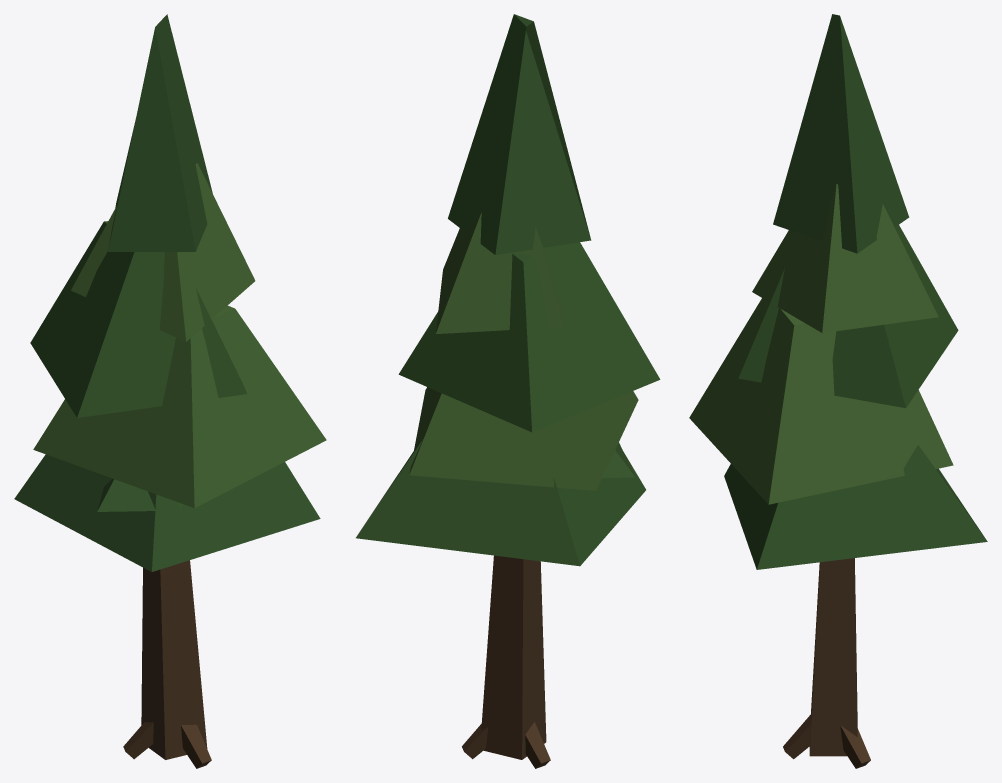
The model's file is tree_pine_b.glb.
3 renders of one model, left to right at view 1: azimuth 30°, elevation 25°; view 2: azimuth 150°, elevation 25°; view 3: azimuth 270°, elevation 25°, orthographic.
Visible parts, largest first — view 1: skirt.001, skirt.002, skirt, skirt.004, bole, skirt.003, spur, root.002, root.001; view 2: skirt.002, skirt.004, skirt, skirt.001, bole, skirt.003, root.001, spur, root; view 3: skirt.001, skirt, skirt.004, skirt.003, skirt.002, bole, root, root.002.
Part boxes in pixels (box(x1,y1,x2,y2)): skirt.001: box(33, 305, 326, 508); skirt.002: box(30, 221, 247, 417); skirt: box(14, 454, 320, 571); skirt.004: box(108, 14, 212, 251); bole: box(141, 560, 207, 759); skirt.003: box(71, 163, 255, 341); spur: box(97, 479, 183, 511); root.002: box(181, 724, 211, 768); root.001: box(123, 722, 153, 759); skirt.002: box(398, 242, 660, 432); skirt.004: box(448, 14, 591, 255); skirt: box(356, 439, 645, 566); skirt.001: box(409, 387, 638, 490); bole: box(481, 555, 546, 759); skirt.003: box(435, 212, 565, 333); root.001: box(525, 722, 550, 768); spur: box(602, 442, 635, 478); root: box(462, 724, 487, 759); skirt.001: box(689, 298, 953, 504); skirt: box(724, 445, 987, 569); skirt.004: box(773, 14, 909, 253); skirt.003: box(752, 184, 938, 332); skirt.002: box(738, 225, 958, 408); bole: box(809, 558, 857, 756); root: box(840, 725, 870, 768); root.002: box(783, 714, 811, 759).
Bounding box in the file's own units: 37.09 × 108 × 39.8.
